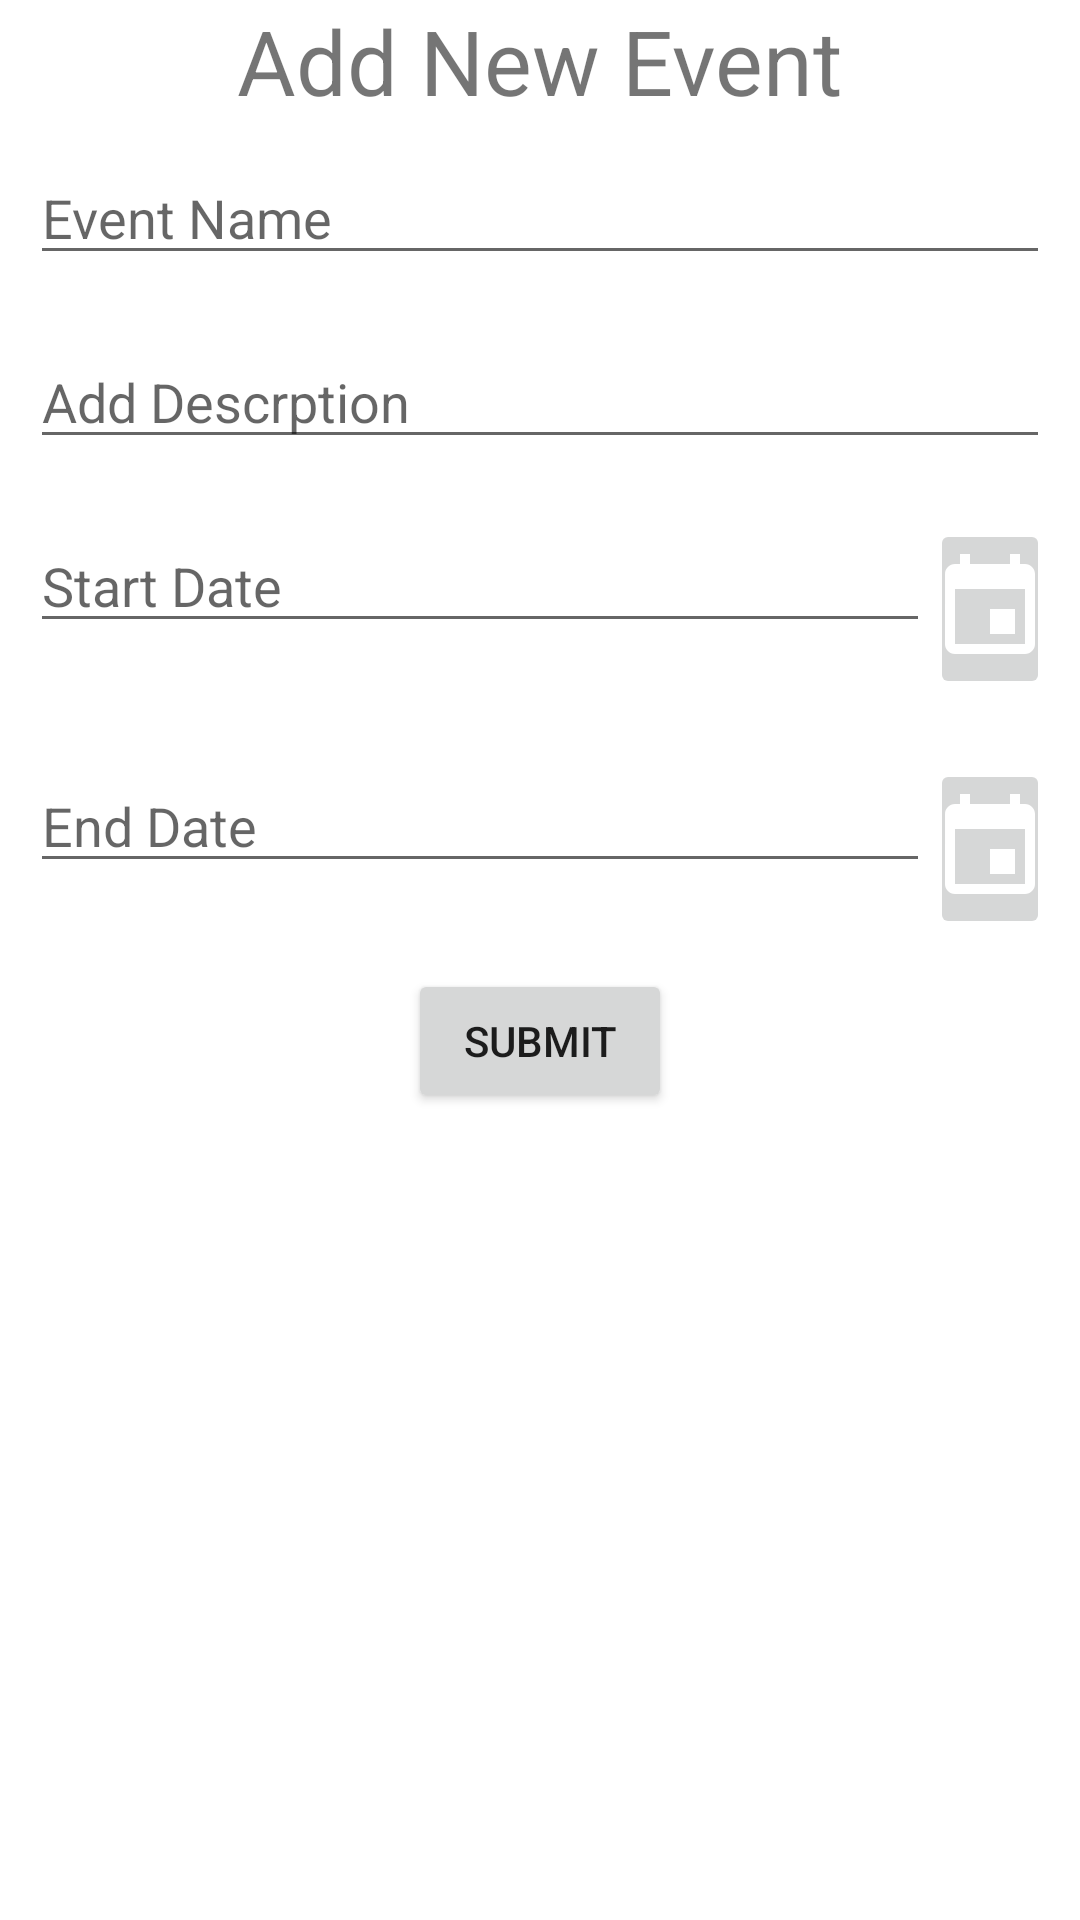

Screen size 1080 × 1920. Icon name, then its center in pixels as point (x, y):
event: point (990, 609), point (990, 849)
